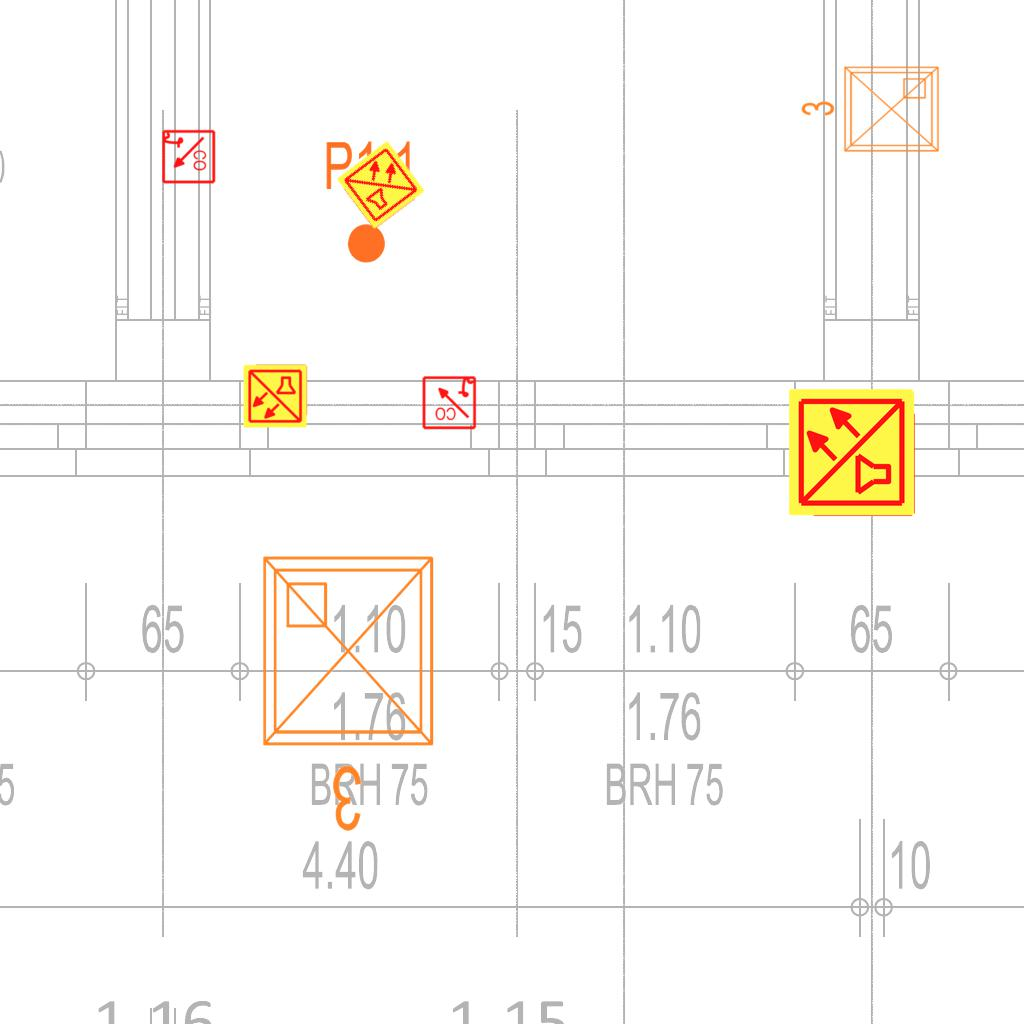Downlight_LED_Einbauleuchten_Flur: (323, 138, 416, 266)
Einbaudownlights_LED_Konferenzraeume: (248, 542, 456, 842), (796, 59, 946, 163)
OKW_Multisensormelder_(Kombination_optischer_Rauch-Kahlenmonoxid_Waerme-Melder): (786, 386, 918, 518), (334, 138, 428, 232), (242, 363, 308, 429)
ROA_Rauchmelder_optisch_mit_Signalgeber_(Sockelsirene): (160, 129, 216, 185), (421, 374, 477, 430)
